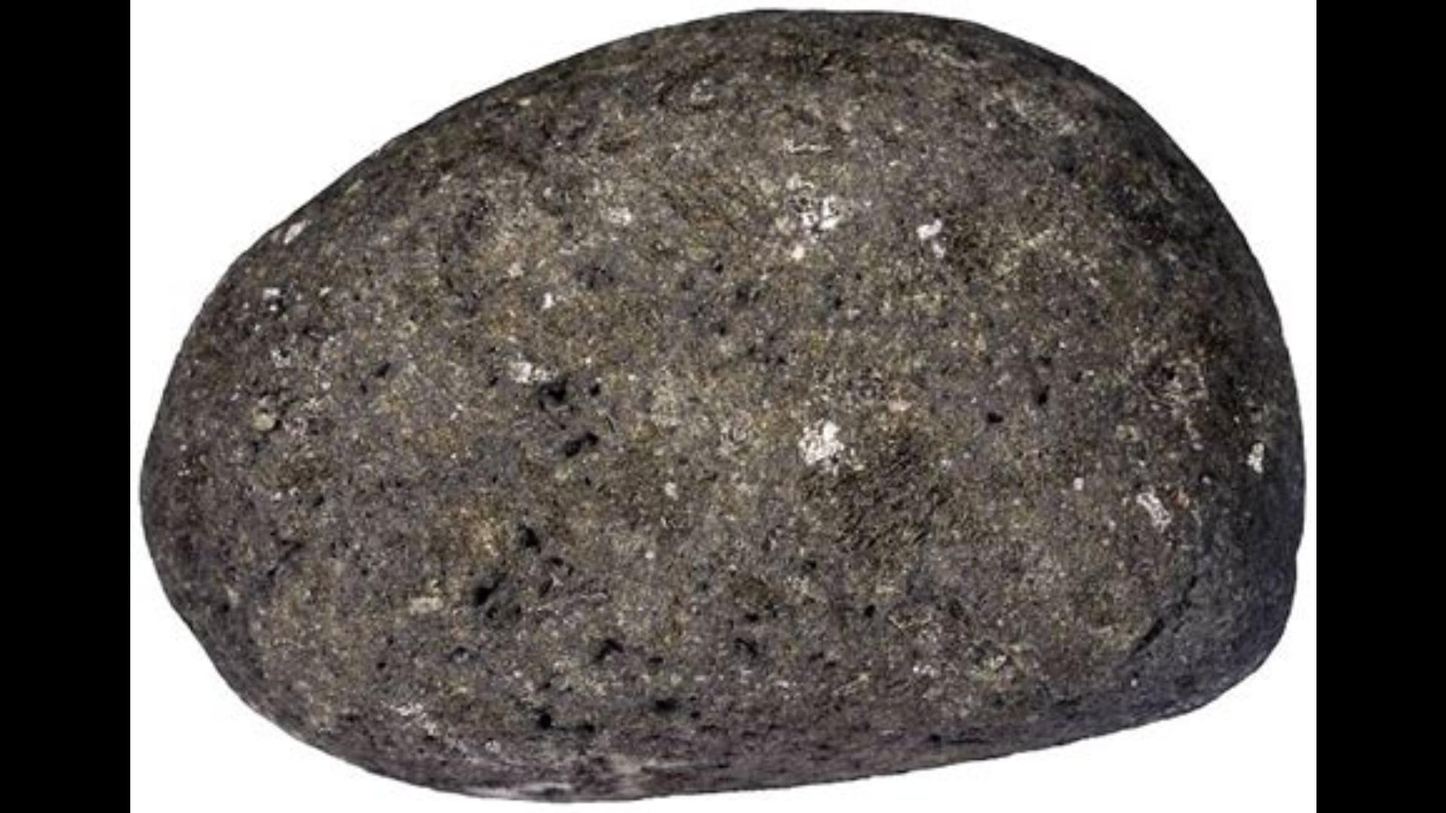rock: (142, 13, 1301, 795)
